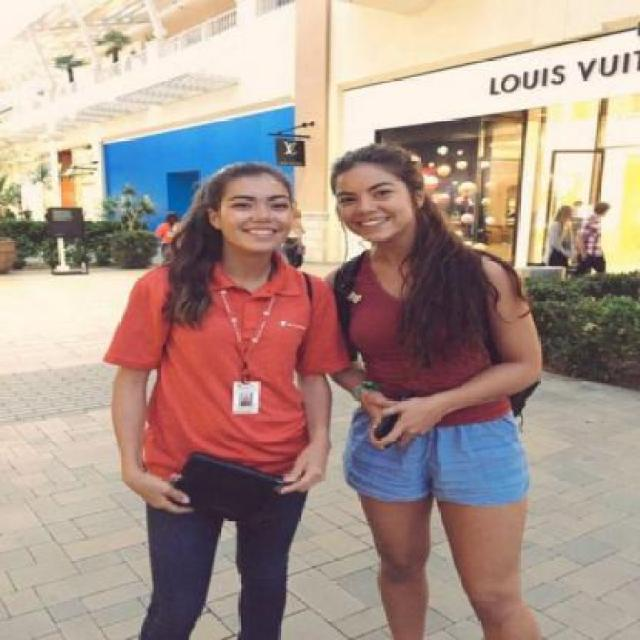Person: (307, 122, 553, 640), (94, 158, 338, 639)
